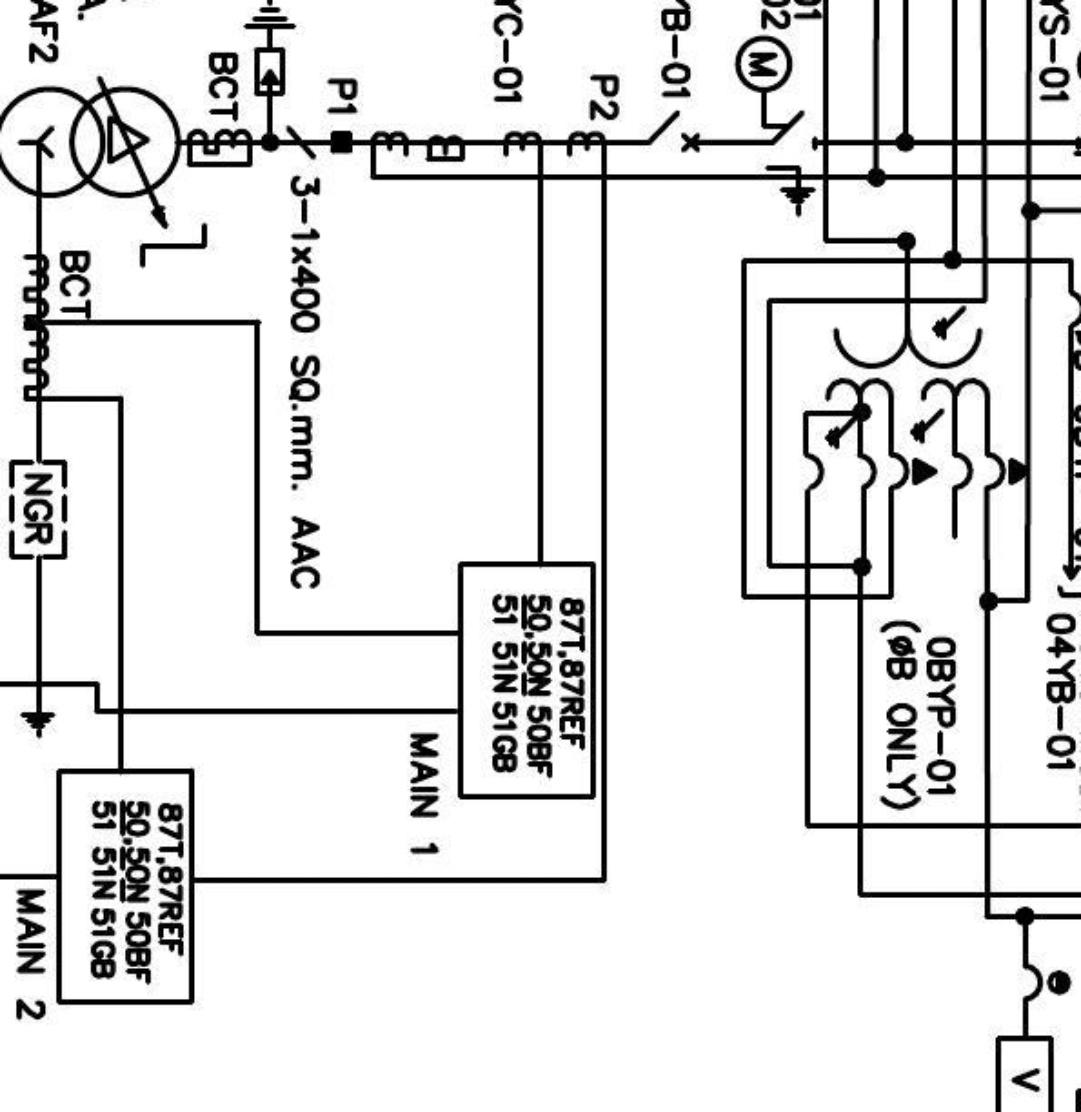115_3ways_ds_w_motor: (733, 34, 818, 218)
115_breaker: (645, 124, 700, 169)
115_vt_1p: (823, 304, 1031, 492)
NGR_future: (6, 458, 70, 740)
